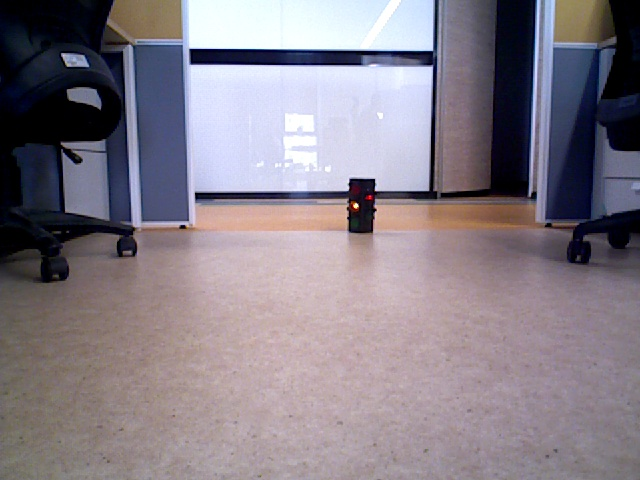yellow: (348, 181, 373, 231)
